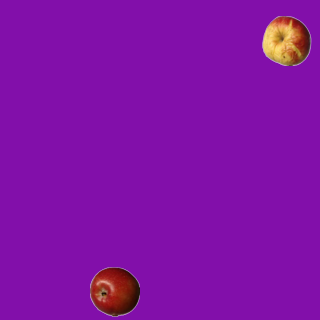Apple Braeburn: (89, 266, 139, 316)
Apple Red Yellow 1: (261, 15, 311, 65)
